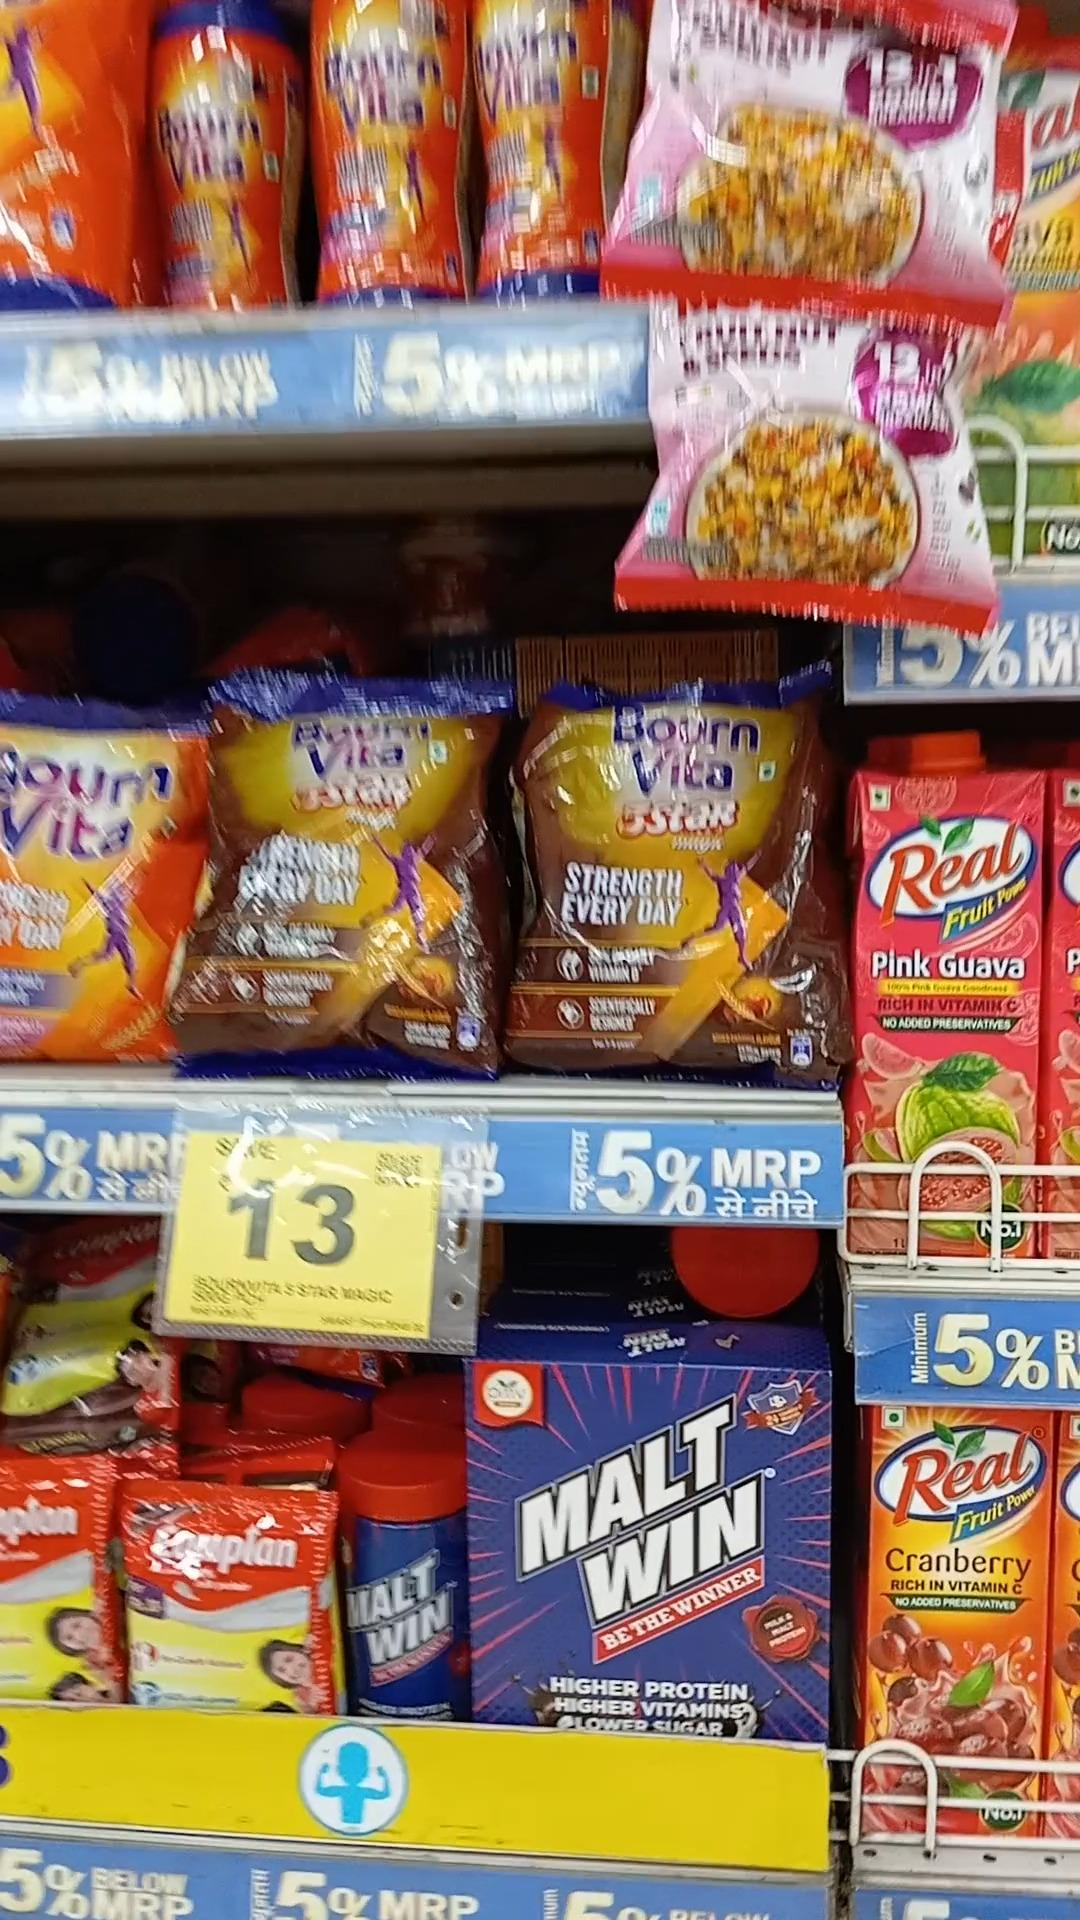BOURN_VITA_500_G_JAR: (156, 0, 297, 311), (316, 0, 458, 294), (464, 0, 597, 297)
BOURN_VITA_FIVE_STAR_MAGIC_500_G_POUCH: (514, 671, 841, 1091), (198, 670, 501, 1081)
